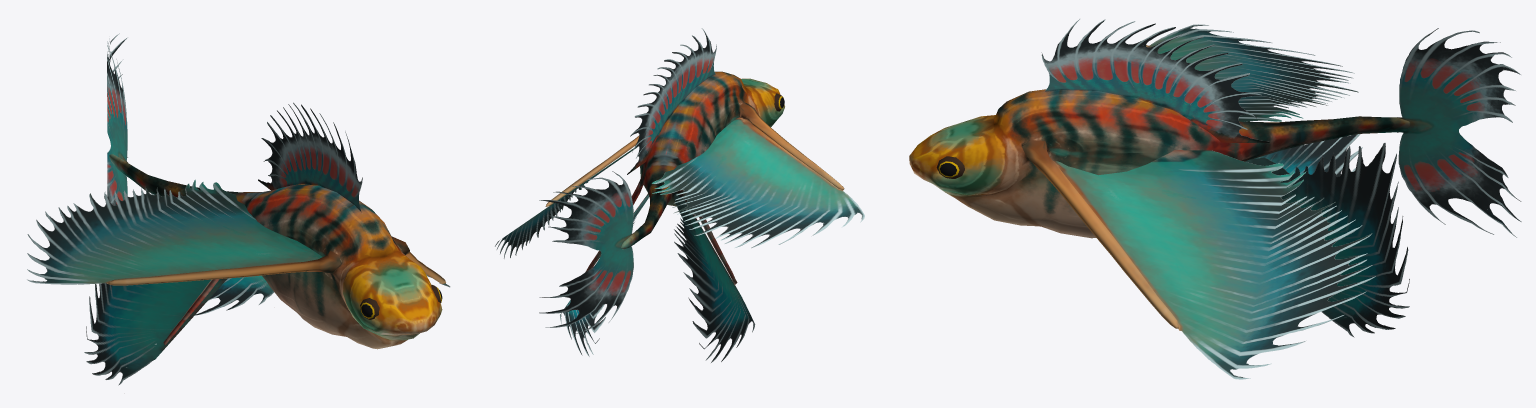
Rendered from fish_000047.obj.
The picture shows the model from 3 angles, left to right: view 1: azimuth 30°, elevation 25°; view 2: azimuth 150°, elevation 25°; view 3: azimuth 270°, elevation 25°; orthographic projection. The views are drawn at different scales.
Parts seen in each view (by area): view 1: flyingFish_low_StingrayPBS1_0; view 2: flyingFish_low_StingrayPBS1_0; view 3: flyingFish_low_StingrayPBS1_0.
Boxes of the visible parts, x1,y1,x2,y2 form: flyingFish_low_StingrayPBS1_0: (27,33,450,385); flyingFish_low_StingrayPBS1_0: (495,28,864,362); flyingFish_low_StingrayPBS1_0: (909,19,1521,379).
Bounding box in the file's own units: 17.69 × 11.76 × 19.34.
1 material, 1 textured.
